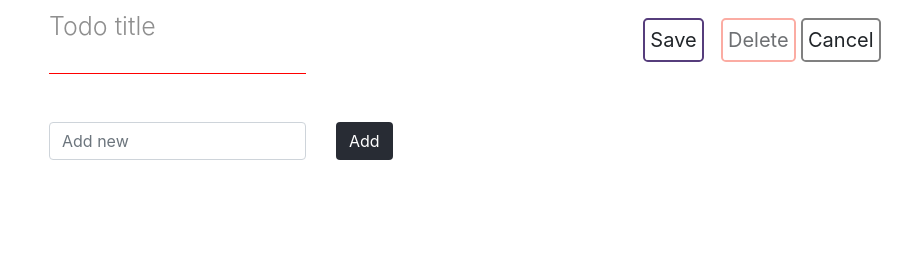
Test: Adding todos › Adding a single todo
Type "This is todo task 0" into the field with placeholder "Add new".
click(178, 141); type("This is todo task 0")  # box [49,122,306,160]
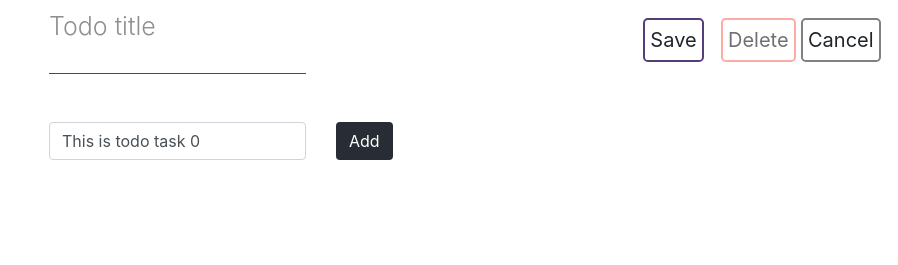
Click the button "Add".
click(364, 141)  # box [336,122,393,160]
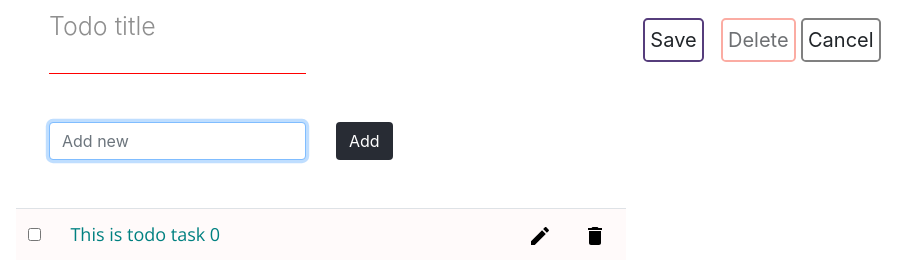
Expected: the checkbox is shown, [28,228,41,241]
Expected: the text "This is todo task 0" is shown, [70,222,220,246]
Expected: the icon with test id "edit-icon-0" is shown, [528,224,552,248]
